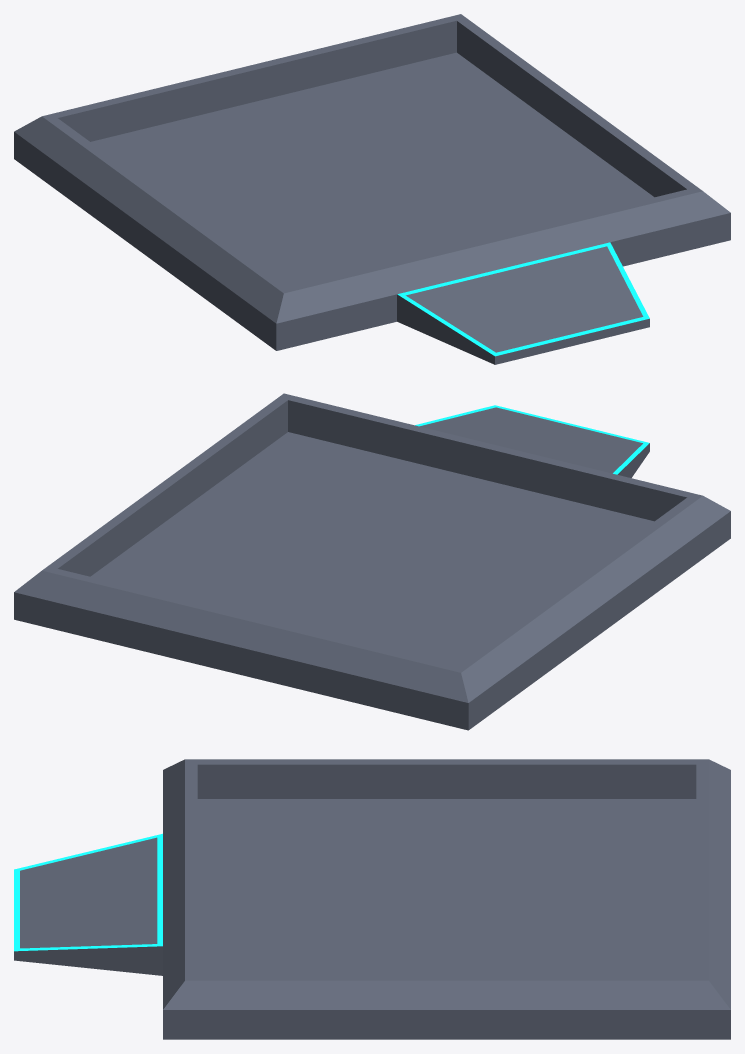
File: Slot.fbx
The picture shows the model from 3 angles, top to bottom: view 1: azimuth 30°, elevation 25°; view 2: azimuth 150°, elevation 25°; view 3: azimuth 270°, elevation 25°; orthographic projection. The views are drawn at different scales.
Parts seen in each view (by area): view 1: SlotMesh; view 2: SlotMesh; view 3: SlotMesh.
Part boxes in pixels (x1,y1,x2,y2): SlotMesh: [14, 14, 730, 364]; SlotMesh: [14, 393, 730, 730]; SlotMesh: [14, 759, 730, 1039].
Size of the model in its own units: 25.76 by 2.49 by 32.51.
